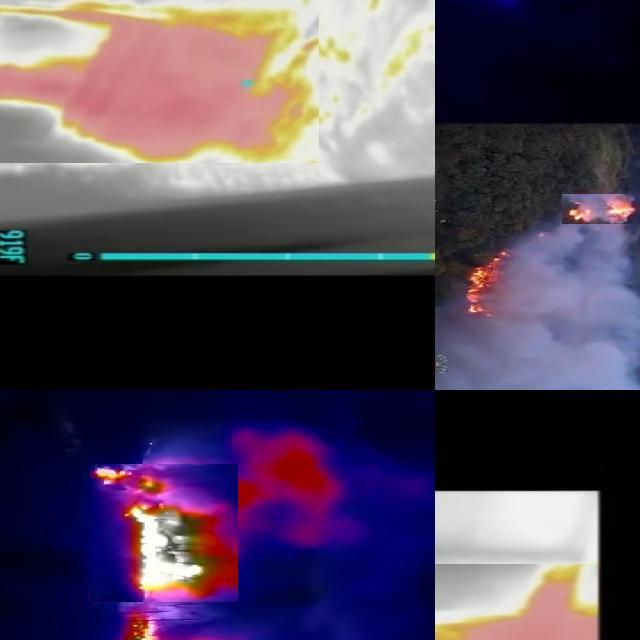fire: (1, 1, 320, 163), (91, 465, 239, 603), (436, 564, 600, 640), (464, 248, 515, 320), (563, 194, 640, 224)
